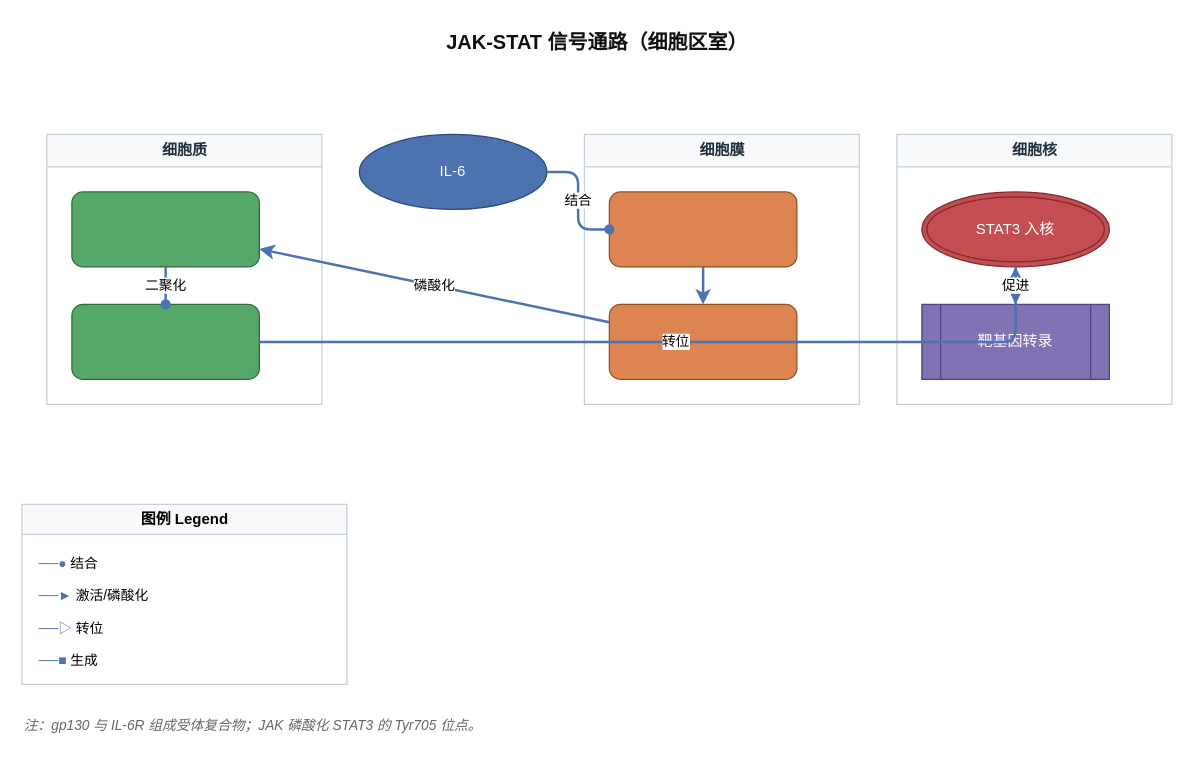
Some shapes in this 1194 by 768 pixel diagram are drawn without their labels. Each missing label, with the centre of its shape:
"IL-6R/gp130" belongs at pixel 702 229.
"JAK 激酶" belongs at pixel 702 341.
"p-STAT3 二聚体" belongs at pixel 165 341.
"STAT3" belongs at pixel 165 229.
